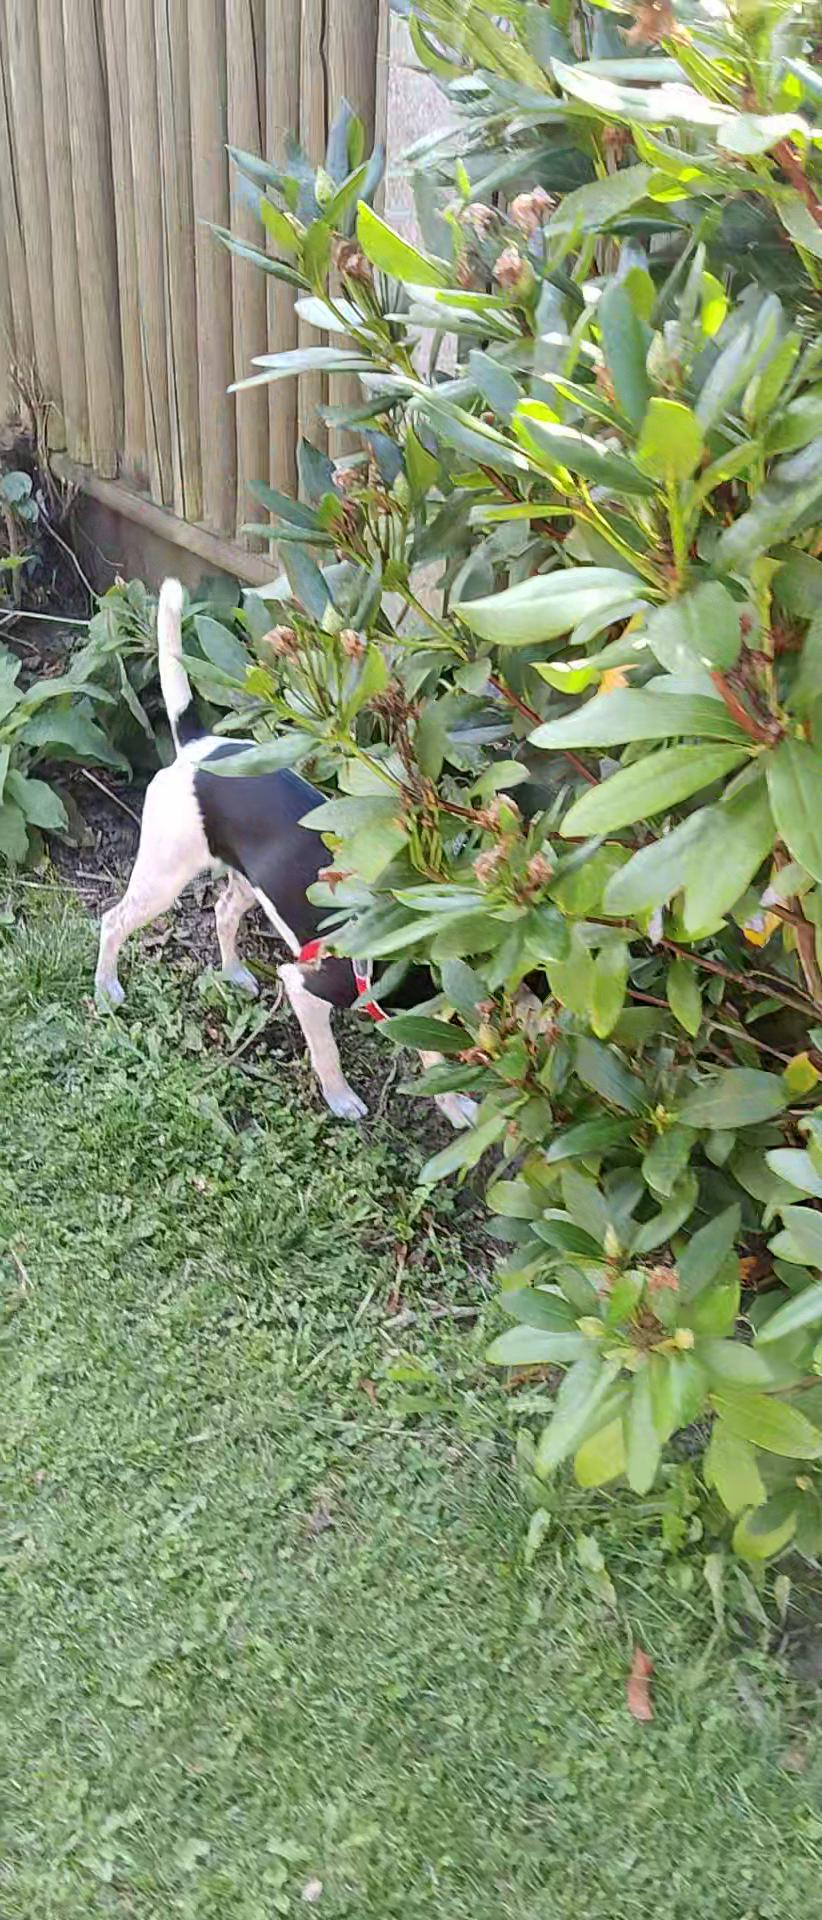Dog: (74, 544, 566, 1138)
